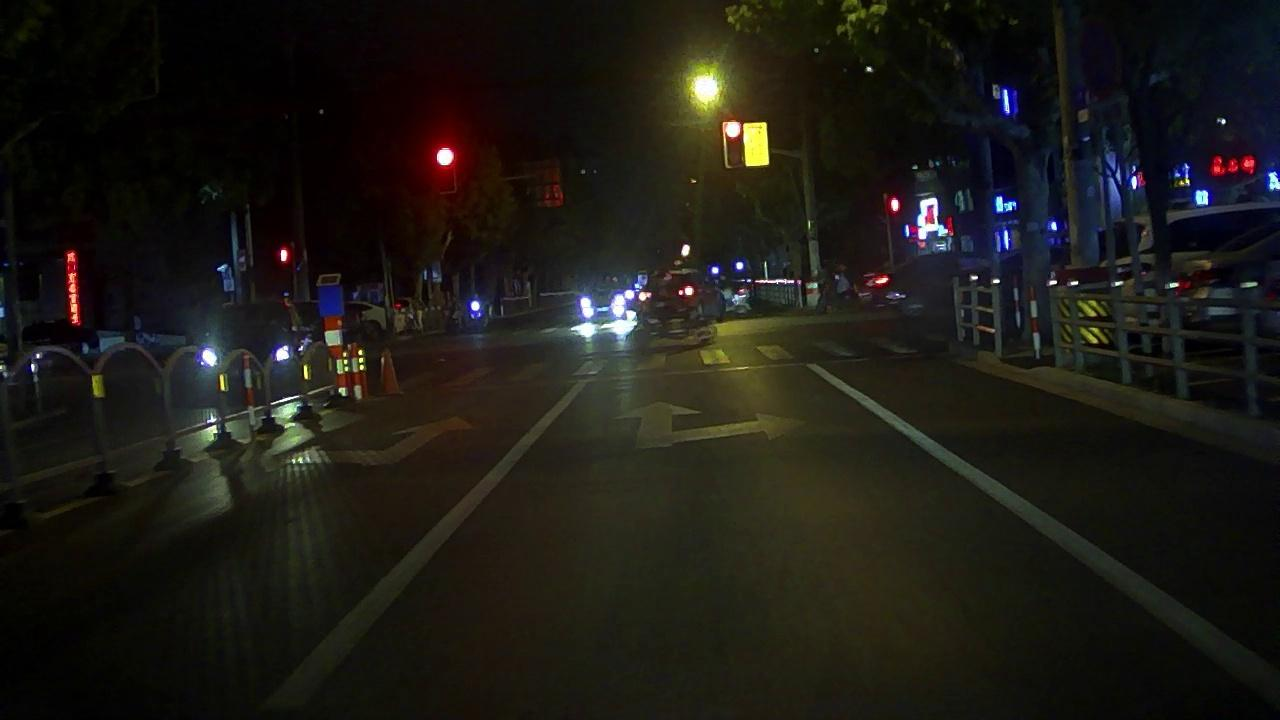traffic_light: (436, 143, 454, 190), (726, 121, 744, 166)
